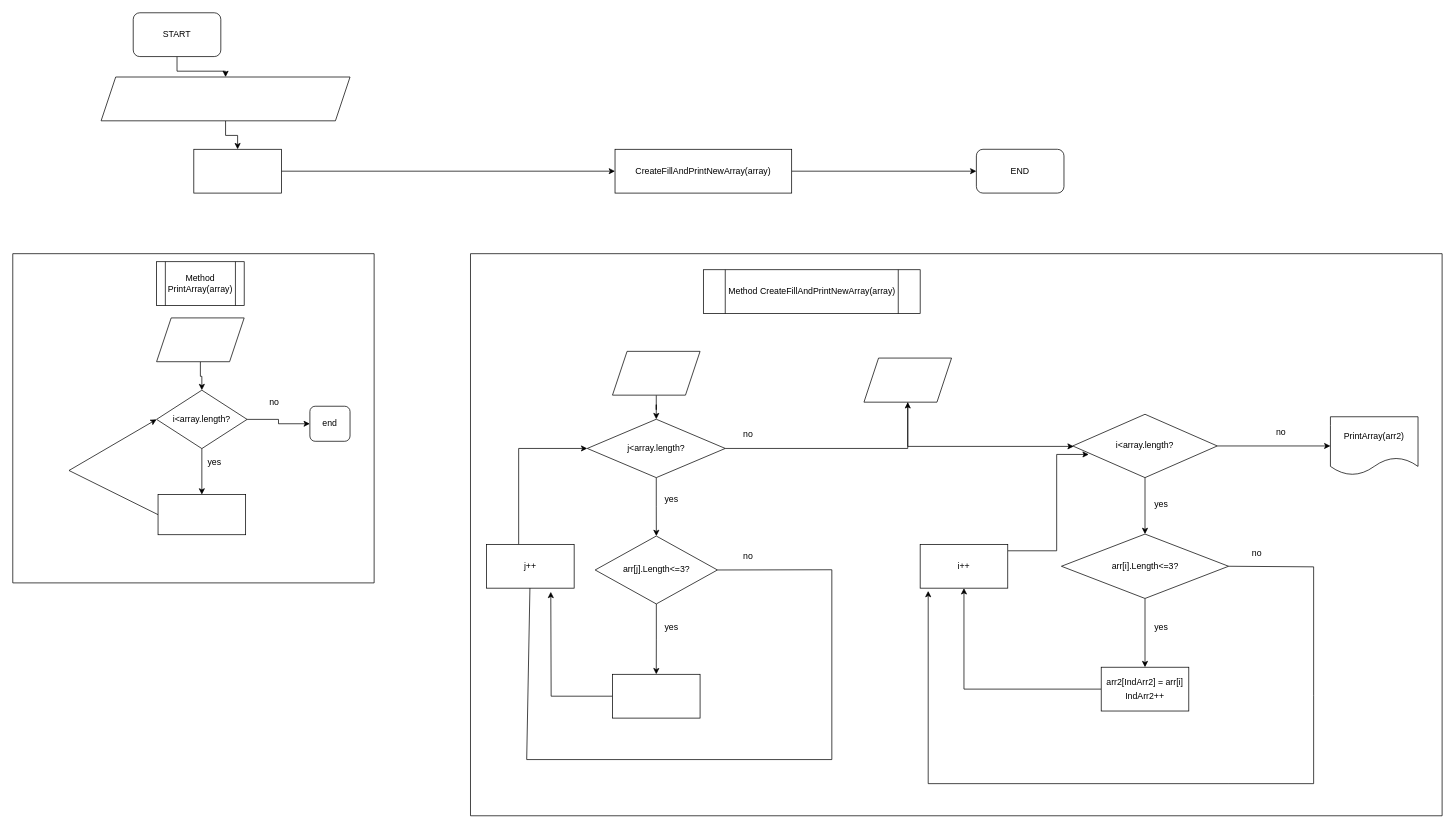
This 1455x829 diagram has some shape labels left out. The shapes that lost their labels are listed below. From the top down, each one's box as (x1, y1, x2, y2) in pixels, then its label:
(100, 76, 350, 121): string array [6] = {"they" ,"are", "not", "stupid", "idiots", "no"};
(193, 149, 281, 193): PrintArray(array)
(156, 317, 244, 362): string [] array i=0
(612, 351, 700, 395): size = 0 j = 0
(863, 357, 952, 402): IndArr2 = 0 string [size] arr2 i=0
(157, 494, 246, 535): Write array[i] i++
(612, 674, 700, 718): size++
